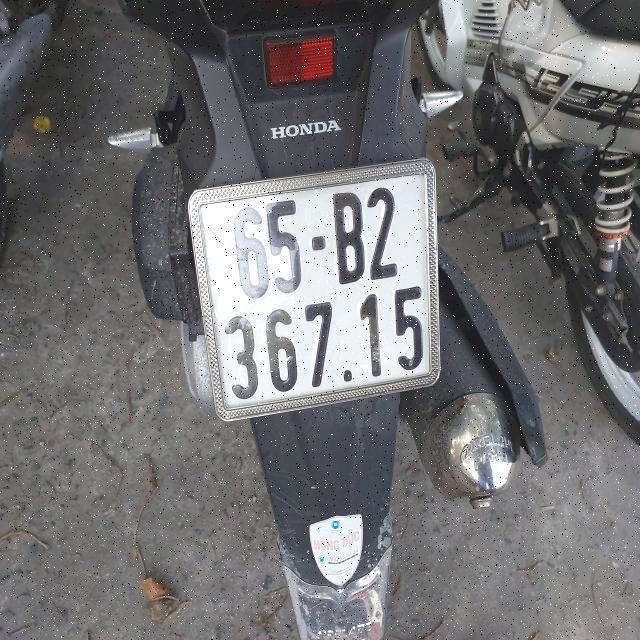1: (360, 290, 385, 382)
2: (368, 186, 399, 282)
3: (222, 314, 258, 399)
5: (266, 200, 307, 298), (395, 284, 423, 375)
6: (228, 205, 270, 303), (261, 304, 299, 392)
7: (304, 302, 333, 390)
B: (332, 191, 366, 285)
